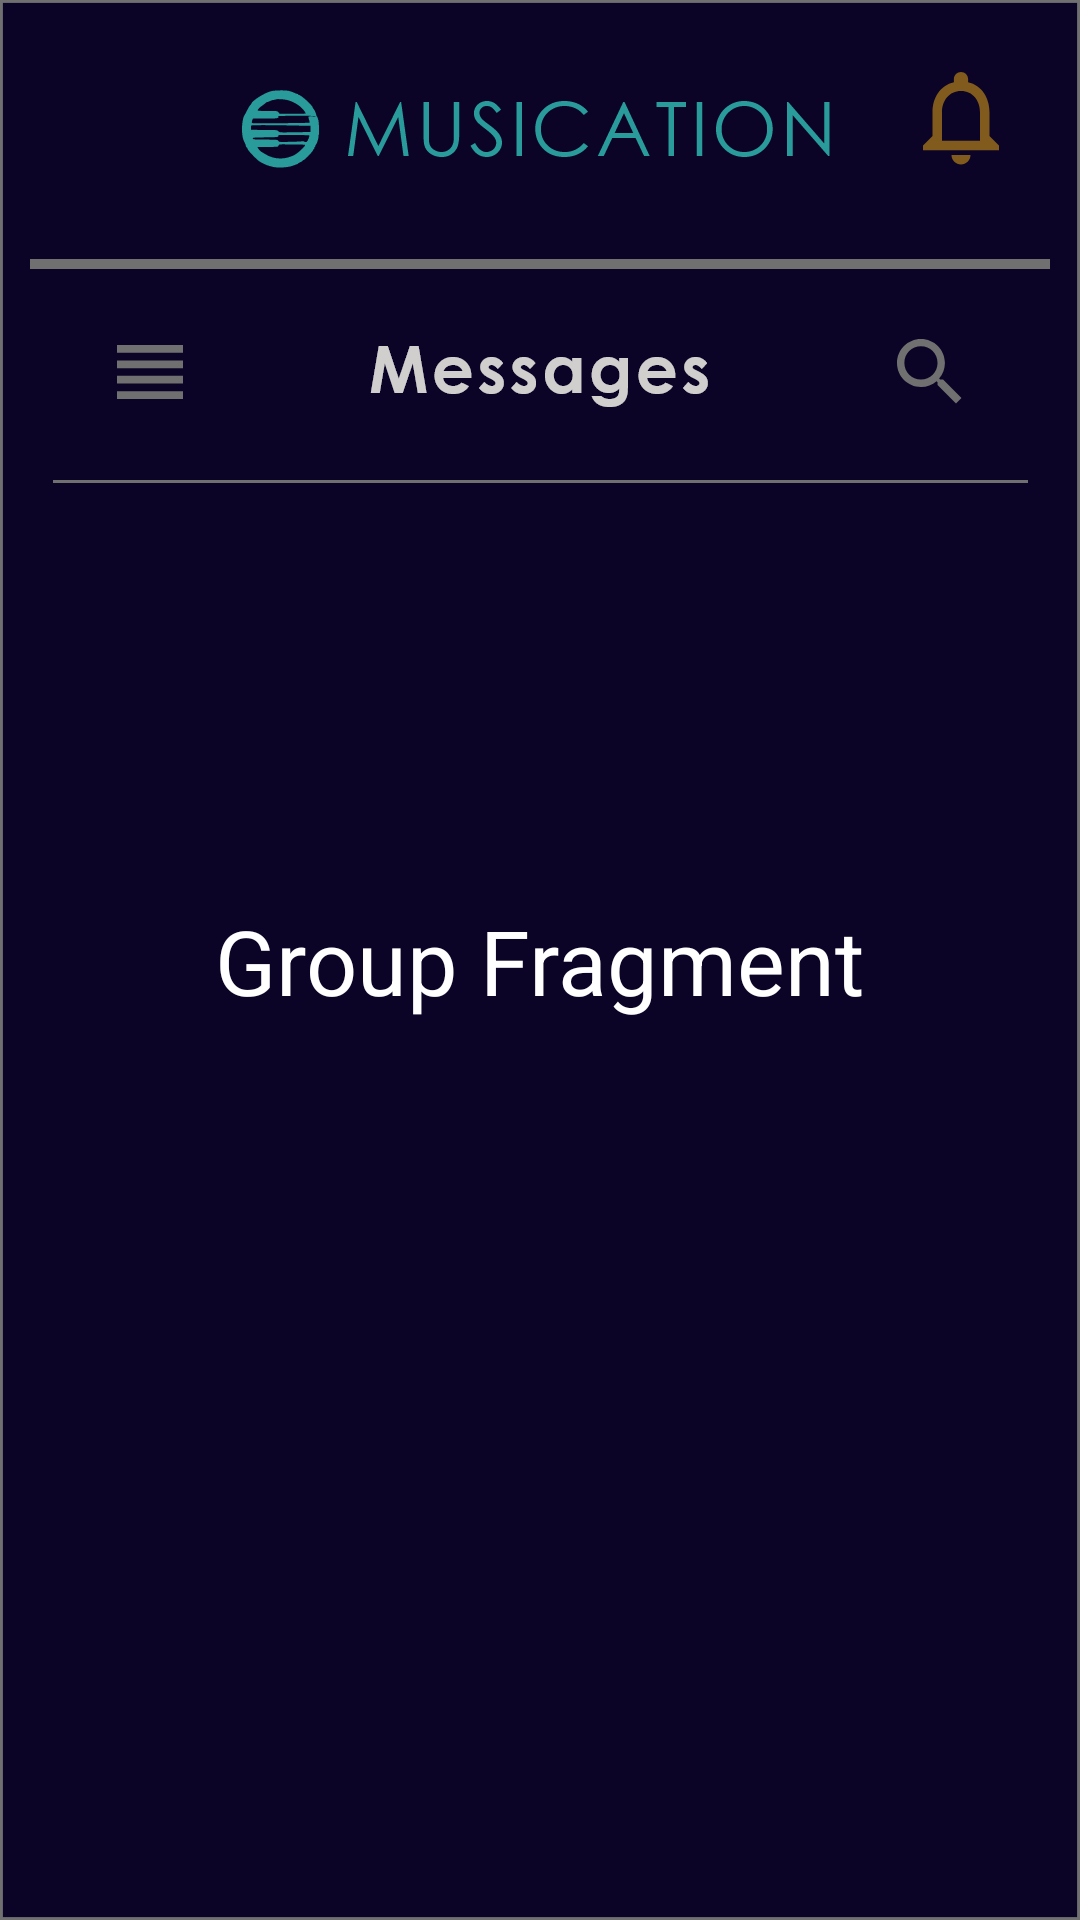

Locate icon controls on the screen. Image size 1080x1920, boxes as (x1, y1, x2, y2).
list: (117, 345, 183, 399)
notification: (923, 72, 999, 165)
search: (897, 339, 961, 403)
